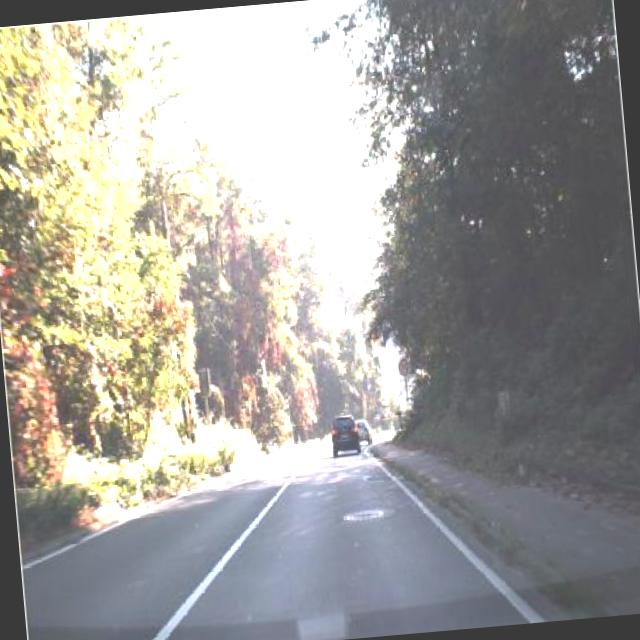Ograniczenie predkosci do 70: (396, 356, 412, 378)
